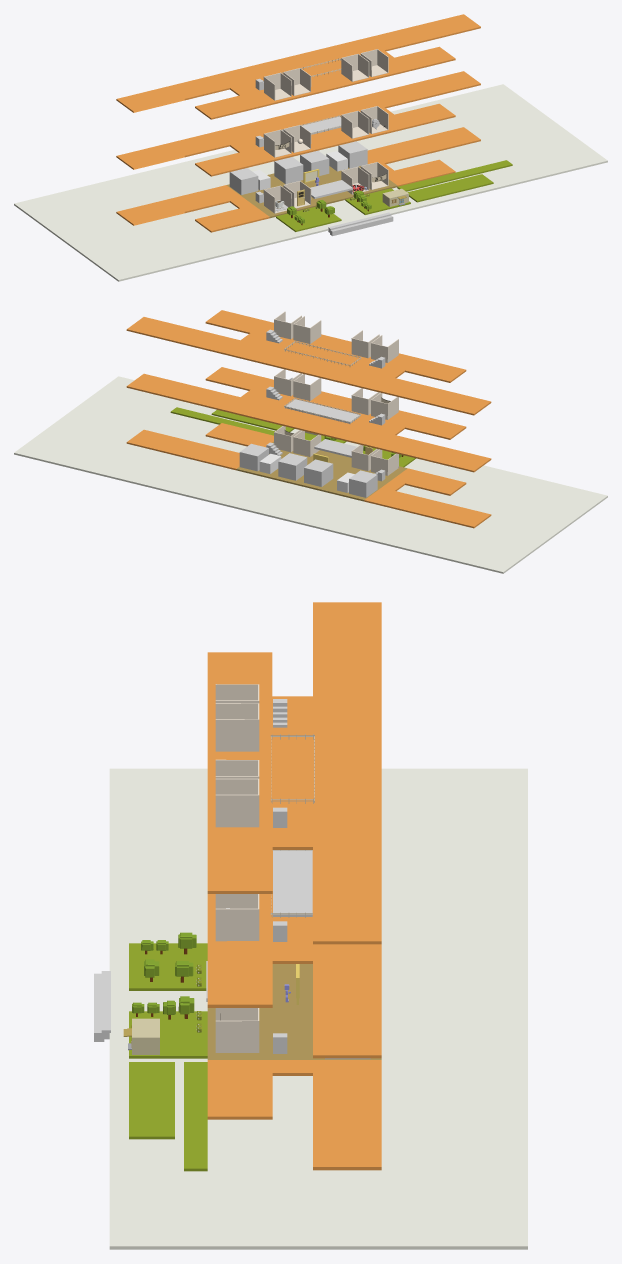
The model's file is floor_souzou2.glb.
3 renders of one model, top to bottom at view 1: azimuth 30°, elevation 25°; view 2: azimuth 150°, elevation 25°; view 3: azimuth 270°, elevation 25°, orthographic. The views are drawn at different scales.
Parts seen in each view (by area): view 1: ground, 3F, 2F, 1F, niwaL.001, niwaL.002, niwaR, 1FRoom2, 2_3, 3_3, 1FRoom1, 3_1 (+16 smaller); view 2: ground, 3F, 2F, 1F, 立方体3, 1FRoom2, niwaL.002, 1FRoom1, 1FRoom3, 1FRoom4, 3_3, 2_3 (+12 smaller); view 3: ground, 3F, 1F, 2F, niwaL.001, niwaR, niwaL.002, 立方体3, niwaL, 3_4, 3_2, 2_4 (+4 smaller).
Part boxes in pixels (x1,y1,x2,y2): ground: [14, 84, 607, 281]; 3F: [116, 14, 480, 119]; 2F: [116, 71, 480, 176]; 1F: [116, 127, 480, 232]; niwaL.001: [407, 174, 493, 202]; niwaL.002: [397, 160, 512, 191]; niwaR: [276, 207, 341, 231]; 1FRoom2: [274, 157, 303, 184]; 2_3: [341, 111, 369, 138]; 3_3: [341, 54, 369, 81]; 1FRoom1: [229, 168, 258, 194]; 3_1: [263, 72, 291, 100]; ground: [14, 376, 607, 573]; 3F: [126, 310, 491, 415]; 2F: [126, 367, 491, 472]; 1F: [126, 423, 491, 528]; 立方体3: [285, 399, 359, 423]; 1FRoom2: [304, 459, 333, 486]; niwaL.002: [170, 407, 274, 435]; 1FRoom1: [349, 470, 377, 497]; 1FRoom3: [278, 453, 307, 480]; 1FRoom4: [239, 443, 268, 471]; 3_3: [293, 316, 321, 343]; 2_3: [293, 374, 321, 400]; ground: [109, 768, 527, 1249]; 3F: [207, 602, 381, 944]; 1F: [207, 964, 381, 1170]; 2F: [207, 851, 381, 1058]; niwaL.001: [129, 1062, 174, 1139]; niwaR: [129, 943, 207, 990]; niwaL.002: [184, 1062, 207, 1171]; 立方体3: [273, 850, 312, 916]; niwaL: [129, 1011, 207, 1058]; 3_4: [215, 778, 259, 827]; 3_2: [215, 703, 259, 751]; 2_4: [215, 894, 259, 941].
Size of the model in its own units: 224 by 59.51 by 86.05.
